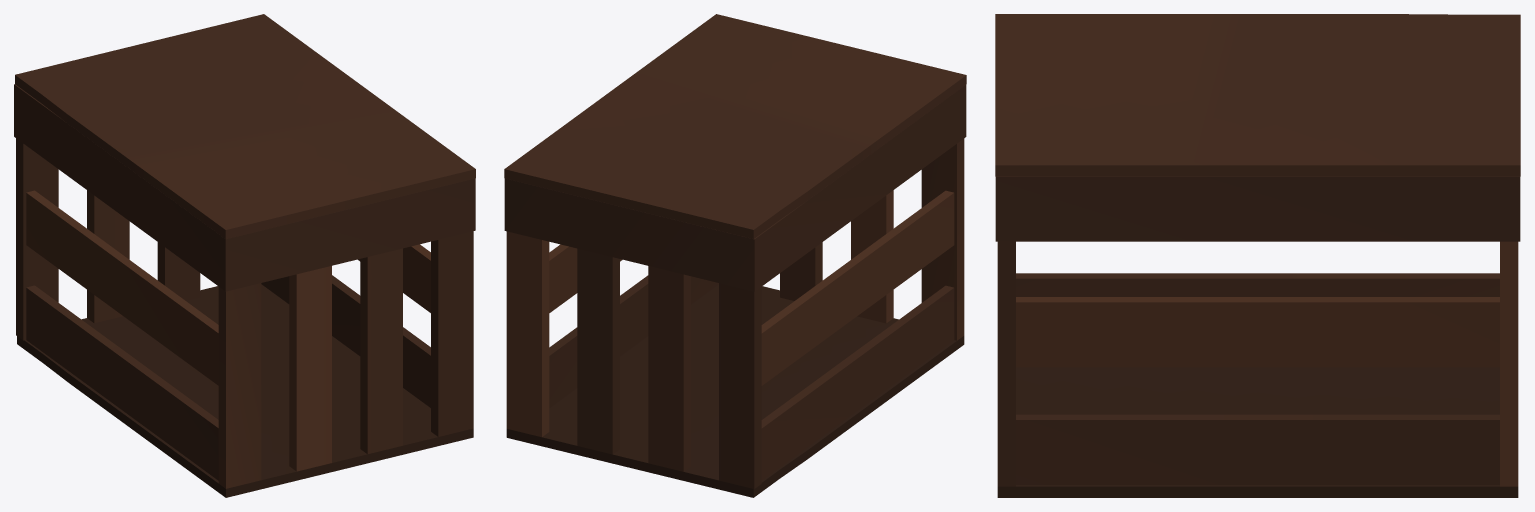
File: Small Dark Crate Closed.fbx
The picture shows the model from 3 angles, left to right: view 1: azimuth 30°, elevation 25°; view 2: azimuth 150°, elevation 25°; view 3: azimuth 270°, elevation 25°; orthographic projection. The views are drawn at different scales.
Parts seen in each view (by area): view 1: Small Dark Crate Closed; view 2: Small Dark Crate Closed; view 3: Small Dark Crate Closed.
Boxes of the visible parts, x1,y1,x2,y2 form: Small Dark Crate Closed: [14, 14, 475, 497]; Small Dark Crate Closed: [504, 14, 966, 497]; Small Dark Crate Closed: [995, 14, 1520, 497].
Size of the model in its own units: 143 by 204 by 139.
1 material, 1 textured.
